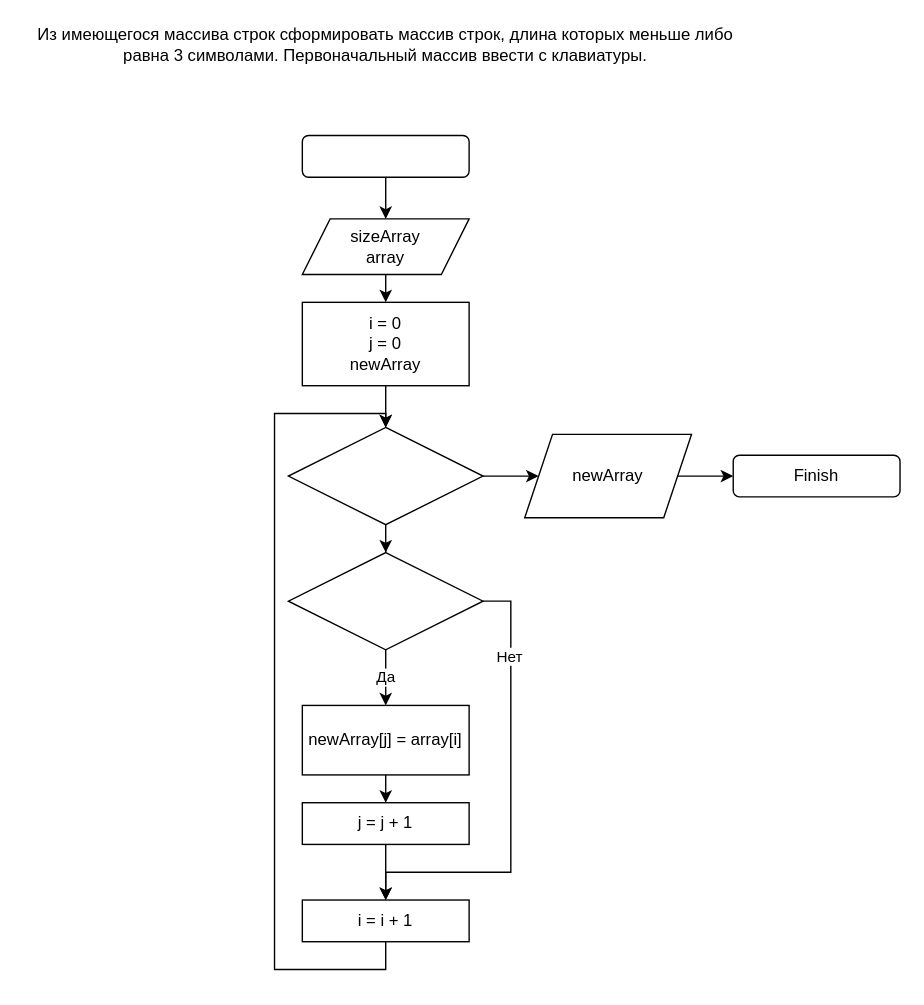
Some shapes in this 924 by 1005 pixel diagram are drawn without their labels. The box of each missing label's shape, as (x1, y1, x2, y2) in pixels:
array[i].Lenght <= 3: (287, 551, 483, 650)
i < sizeArray: (287, 426, 483, 525)
Start: (301, 134, 469, 177)
